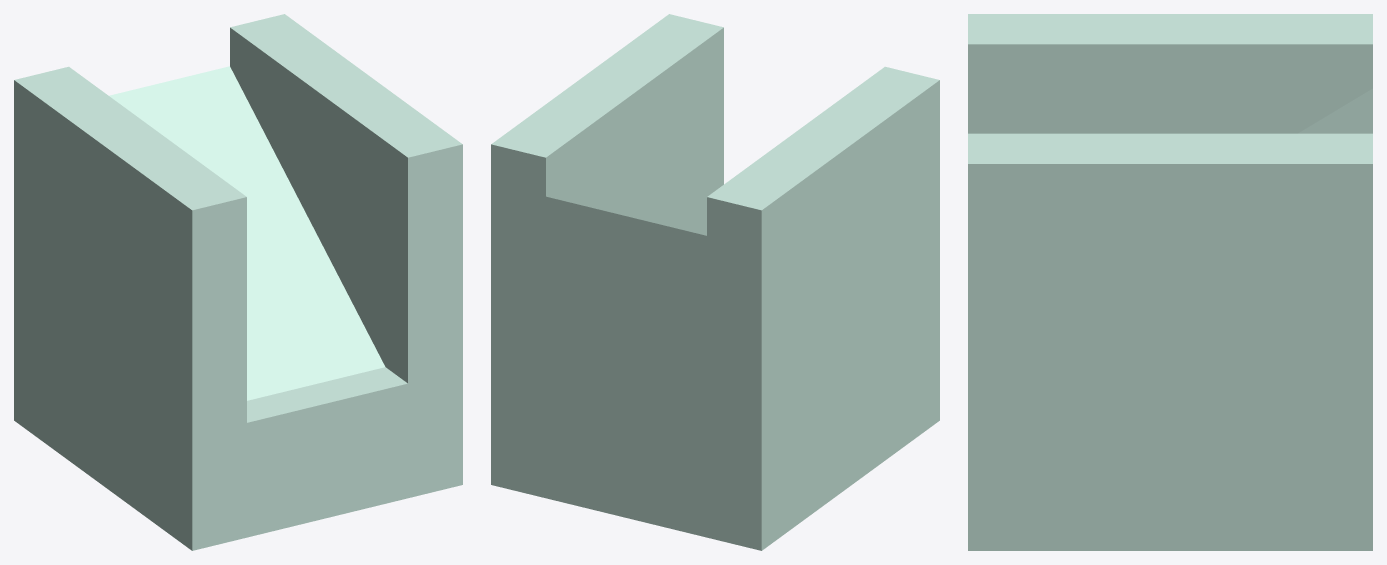
3 renders of one model, left to right at view 1: azimuth 30°, elevation 25°; view 2: azimuth 150°, elevation 25°; view 3: azimuth 270°, elevation 25°, orthographic. The views are drawn at different scales.
Visible parts, largest first — view 1: Renderer Node; view 2: Renderer Node; view 3: Renderer Node.
Boxes of the visible parts, <box> form: Renderer Node: <box>14,14,462,550</box>; Renderer Node: <box>491,14,939,550</box>; Renderer Node: <box>968,14,1372,550</box>.
Size of the model in its own units: 0.6237 by 0.75 by 0.7109.
